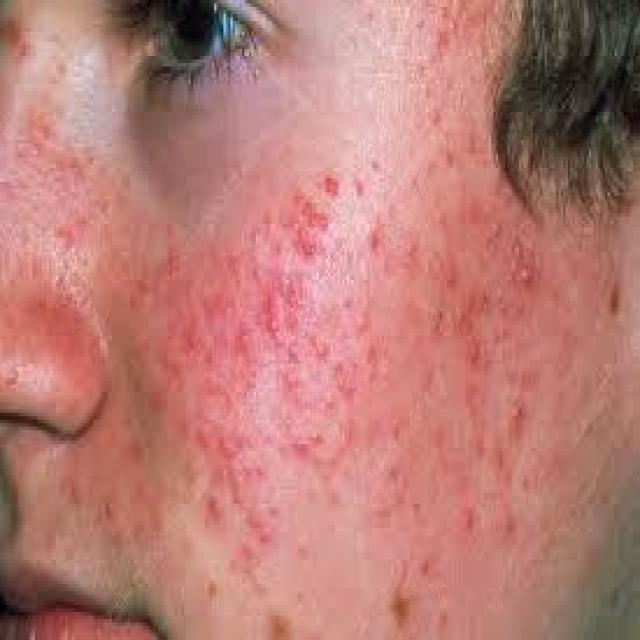Acne: (112, 170, 368, 550), (428, 182, 541, 467)
